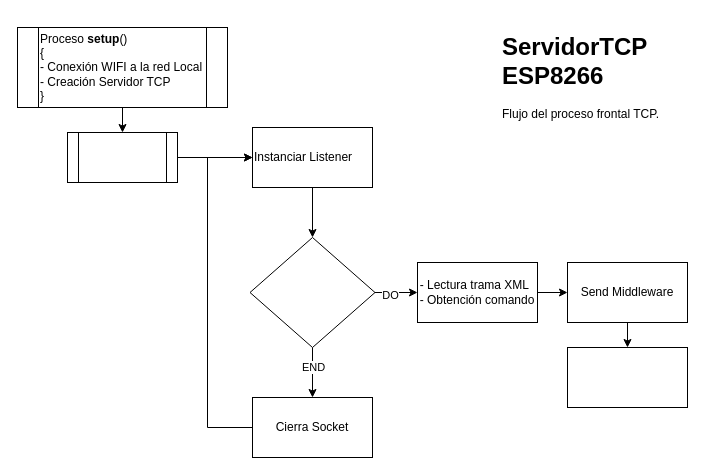
Some shapes in this 705 by 475 pixel diagram are drawn without their labels. The centre of each missing label's shape, as x and y in pixels:
Proceso loop (): the point at 122,157
Respond Client: the point at 627,377
While Cliente conectado: the point at 312,292
